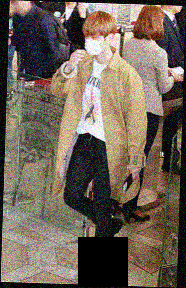with_mask: (83, 35, 105, 56)
